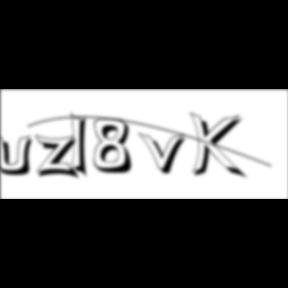8: (94, 117, 138, 176)
I: (71, 110, 95, 182)
K: (189, 110, 248, 182)
u: (1, 132, 40, 178)
v: (139, 131, 193, 177)
z: (34, 134, 84, 182)
